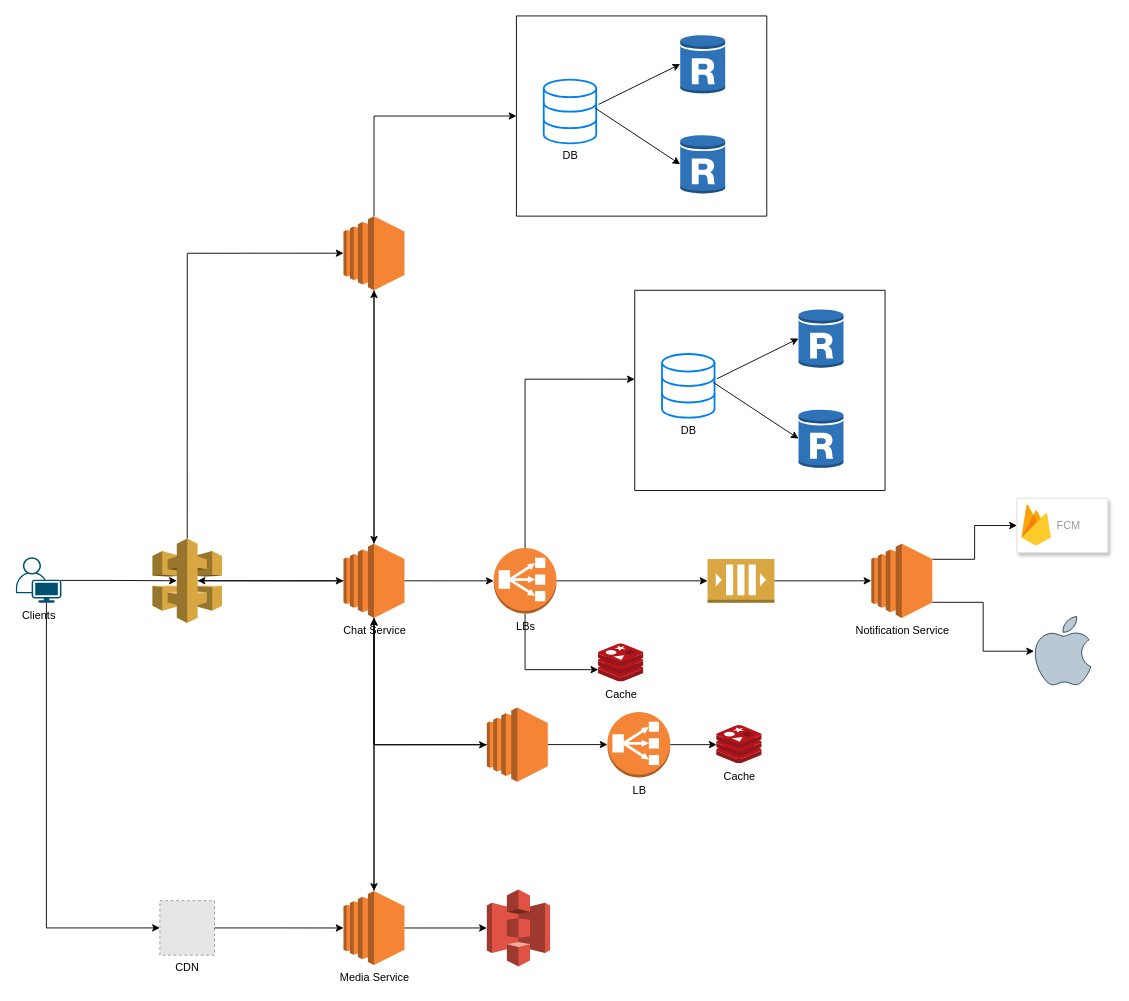
This 1129x1001 diagram has some shape labels left out. Grey dashed boxes stand in for pictures. Each missing label, with the centre of its shape:
"API Gateway" goes at pixel 187 580.
"APNS" goes at pixel 1062 651.
"Object Store" goes at pixel 518 927.
"Presence Service" goes at pixel 517 744.
"Queue (Kafka)" goes at pixel 740 580.
"User Service" goes at pixel 373 252.
